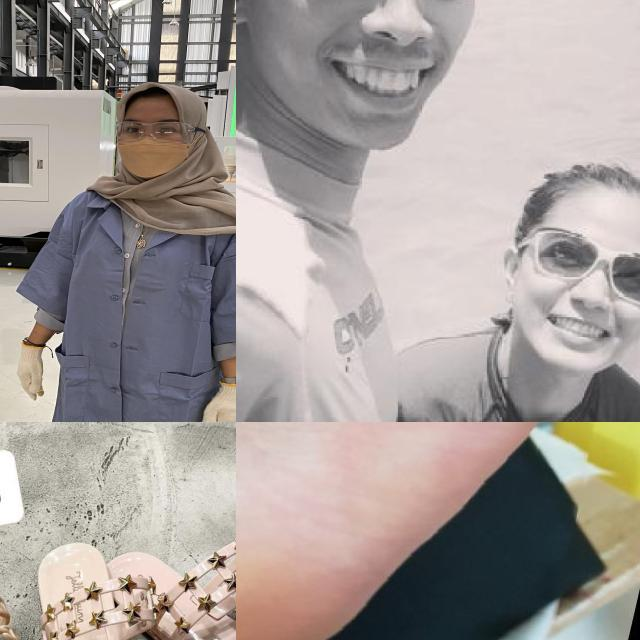Barefoots: (236, 422, 610, 640)
Sandals: (28, 520, 236, 640)
face_mask: (114, 115, 187, 177)
face_nomask: (301, 0, 463, 122)
glasses: (517, 228, 640, 308), (109, 118, 210, 144)
hand_glove: (7, 337, 53, 404), (194, 384, 236, 422)
head_nohelmet: (511, 146, 640, 271), (120, 71, 205, 113)
person: (236, 0, 482, 422), (9, 73, 236, 422), (362, 142, 640, 422)
